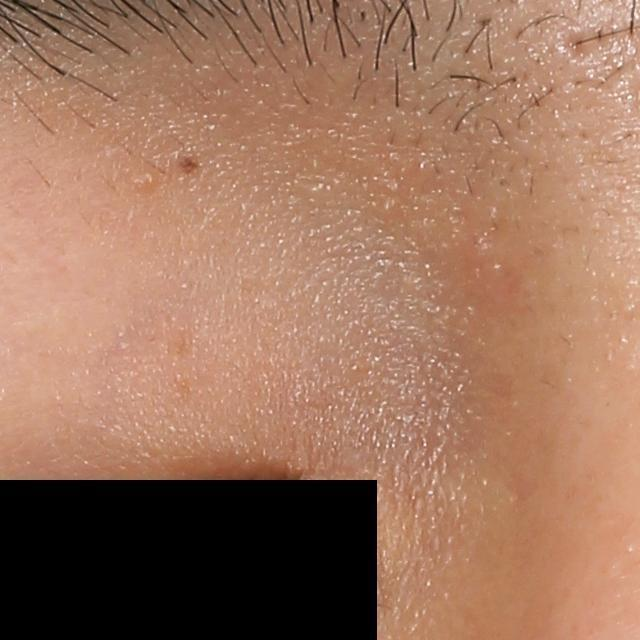atrophic_scar: (558, 26, 596, 65)
comedo: (130, 170, 159, 196)
nevus: (173, 155, 198, 174)
